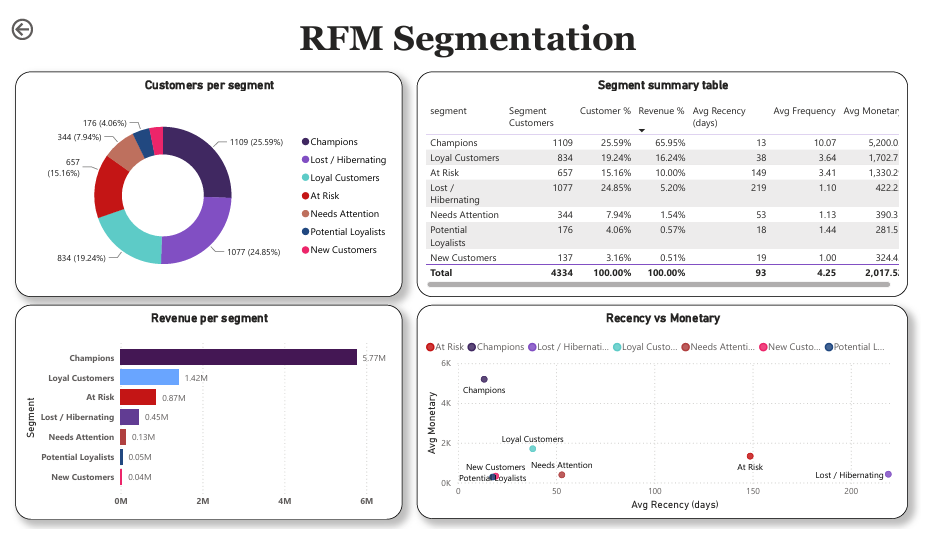

Layout of this report page (visuals, bound fields, positions):
{"tool":"powerbi","page":{"name":"RFM_Segmentation","canvas":[1280,720],"ordinal":1},"visuals":[{"type":"textbox","box":[9.5,0,1270.4,79.4],"z":0},{"type":"donutChart","title":"Customers per segment","fields":{"Category":["Customers.segment"],"Y":["_Measures.Segment Customers"]},"box":[9.5,79.4,543.1,316],"z":1000},{"type":"clusteredBarChart","title":"Revenue per segment","fields":{"Category":["Customers.segment"],"Y":["_Measures.Total Revenue"]},"box":[9.6,406.4,542.9,300.4],"z":2000},{"type":"tableEx","title":"Segment summary table","fields":{"Values":["Customers.segment","_Measures.Segment Customers","_Measures.Customer %","_Measures.Revenue %","_Measures.Avg Recency (days)","_Measures.Avg Frequency","_Measures.Avg Monetary"]},"box":[573.3,79.4,689.2,316],"z":3000},{"type":"actionButton","box":[0,0,100,40],"z":4000},{"type":"scatterChart","title":"Recency vs Monetary","fields":{"X":["_Measures.Avg Recency (days)"],"Y":["_Measures.Avg Monetary"],"Series":["Customers.segment"]},"box":[573,406,689,300],"z":5000}]}

Visuals, with their boxes in screenshot pixels (x1, y1, x2, y2):
textbox: <box>12,12,920,69</box>
"Customers per segment" donutChart: <box>12,69,400,295</box>
"Revenue per segment" clusteredBarChart: <box>12,303,400,517</box>
"Segment summary table" tableEx: <box>415,69,907,295</box>
actionButton: <box>5,12,76,41</box>
"Recency vs Monetary" scatterChart: <box>415,302,907,517</box>
